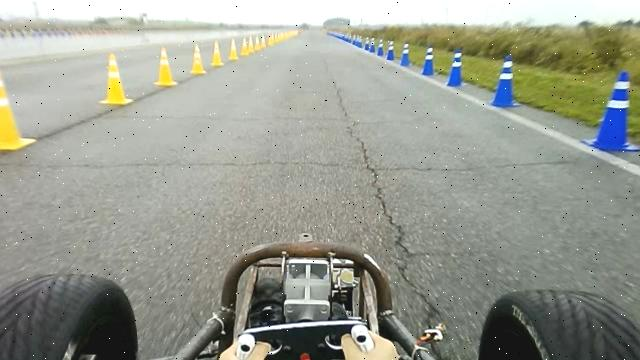blue cone: (581, 70, 640, 152), (490, 55, 522, 108), (446, 47, 466, 87), (421, 45, 435, 76), (401, 42, 412, 67), (386, 40, 395, 61), (377, 38, 385, 57), (369, 37, 376, 54)
yellow cone: (0, 69, 37, 151), (98, 53, 134, 106), (154, 47, 178, 86), (190, 44, 207, 75), (211, 40, 224, 66), (228, 38, 239, 61), (240, 37, 249, 56)
